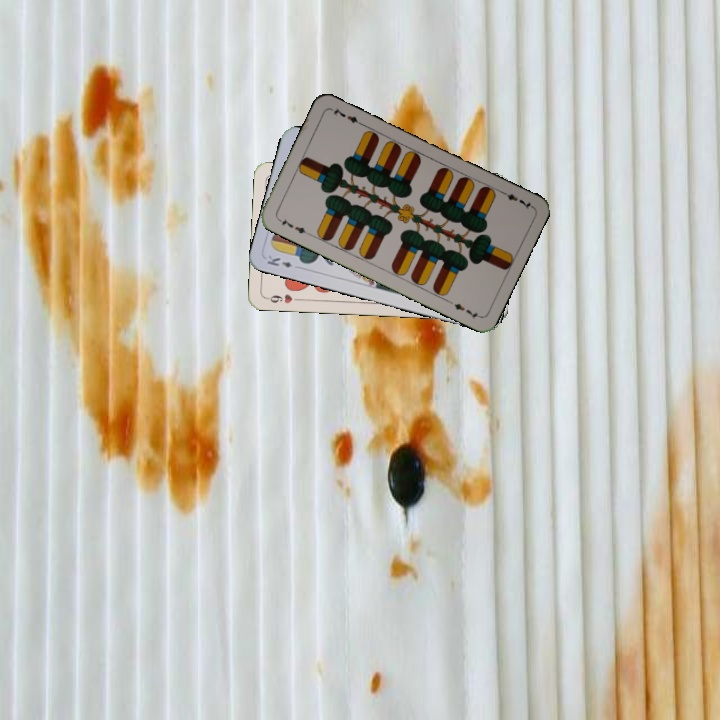E7: (497, 187, 535, 212), (274, 214, 312, 237)
EK: (263, 251, 295, 270)
H9: (263, 290, 303, 306)
